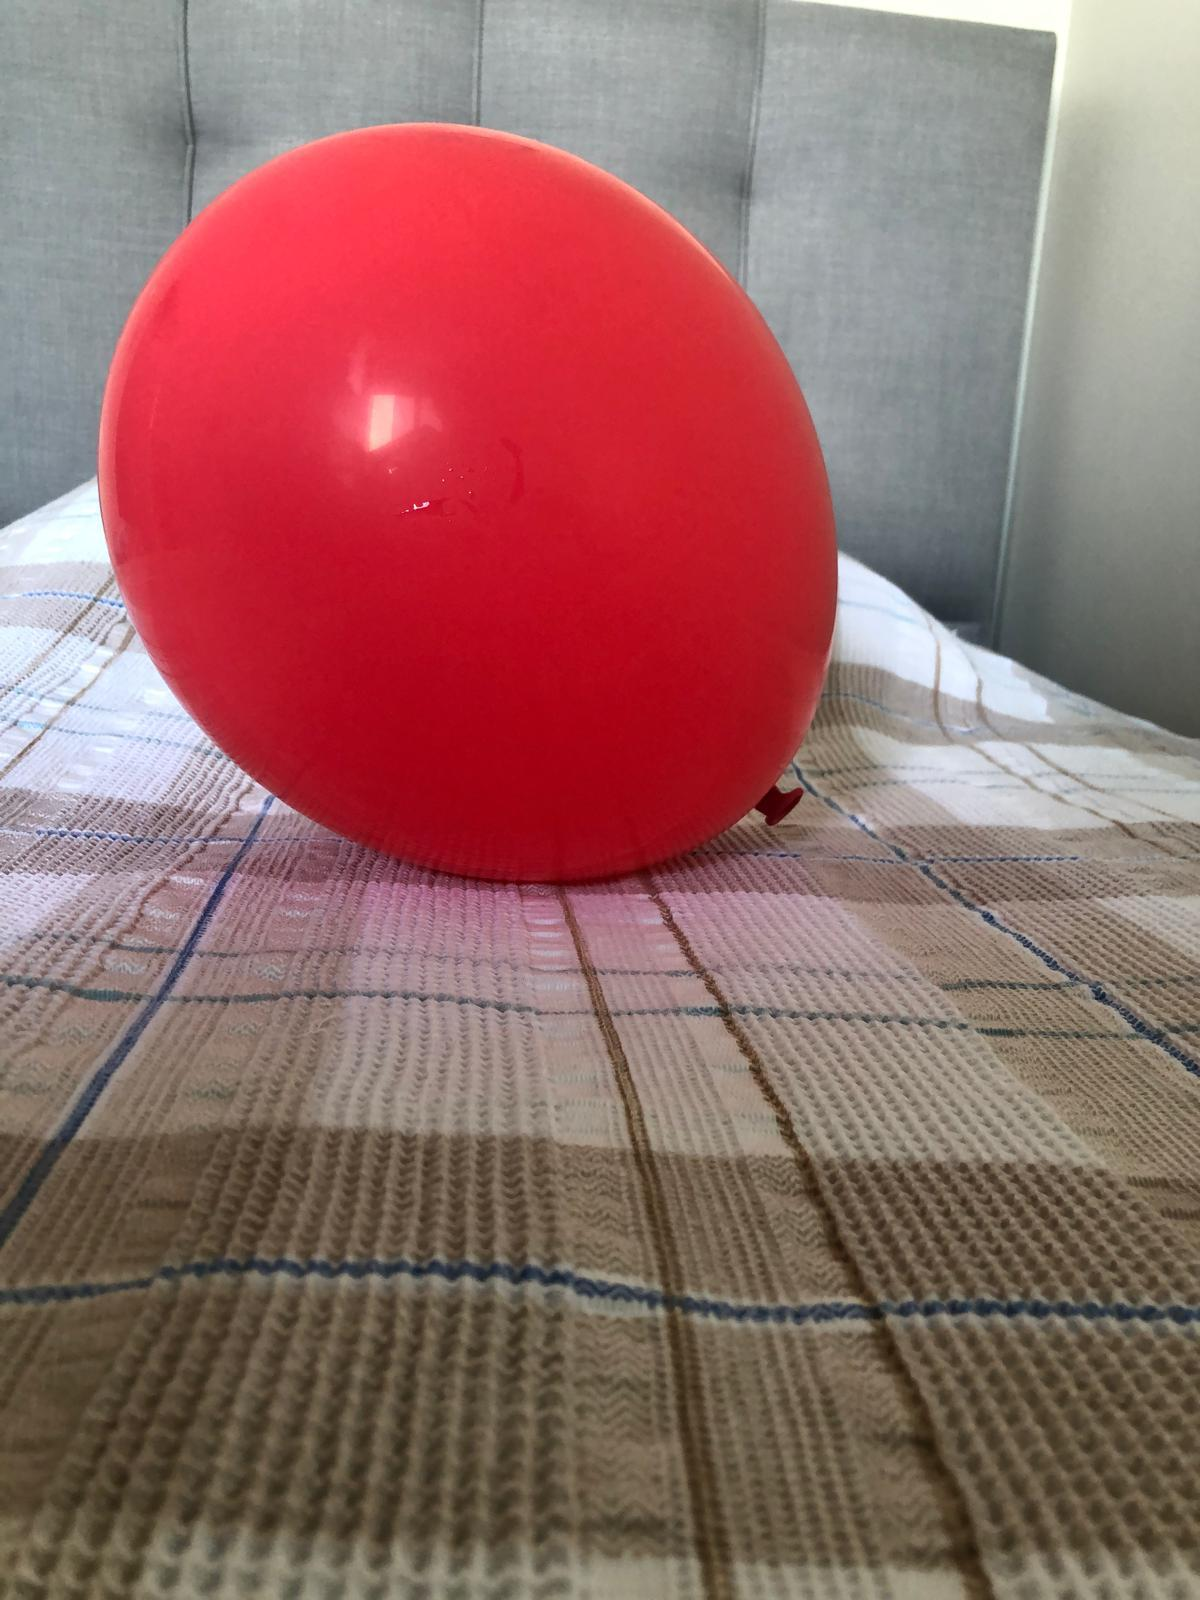red: (97, 113, 842, 886)
